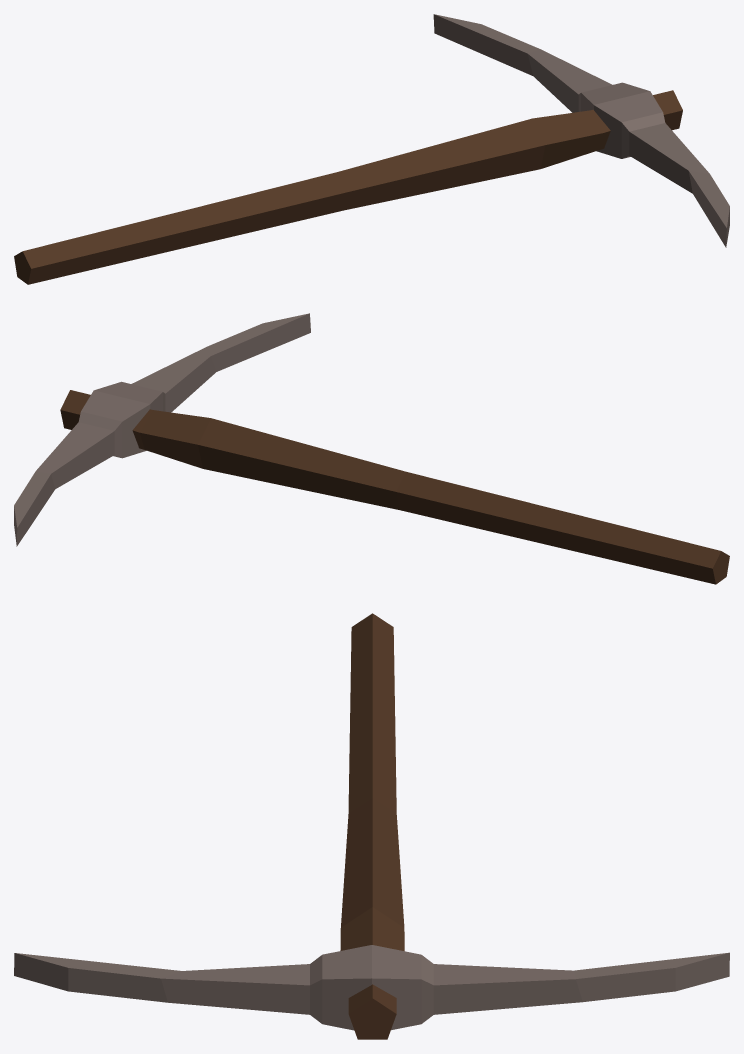
The model's file is Pickaxe.glb.
3 renders of one model, top to bottom at view 1: azimuth 30°, elevation 25°; view 2: azimuth 150°, elevation 25°; view 3: azimuth 270°, elevation 25°, orthographic. The views are drawn at different scales.
Parts seen in each view (by area): view 1: Pickaxe2; view 2: Pickaxe2; view 3: Pickaxe2.
Part boxes in pixels (x1,y1,x2,y2): Pickaxe2: (14,14,729,284); Pickaxe2: (14,313,729,584); Pickaxe2: (14,613,729,1039).
Size of the model in its own units: 1.64 by 0.1126 by 1.28.
Materials: 2 (2 with a texture image).
